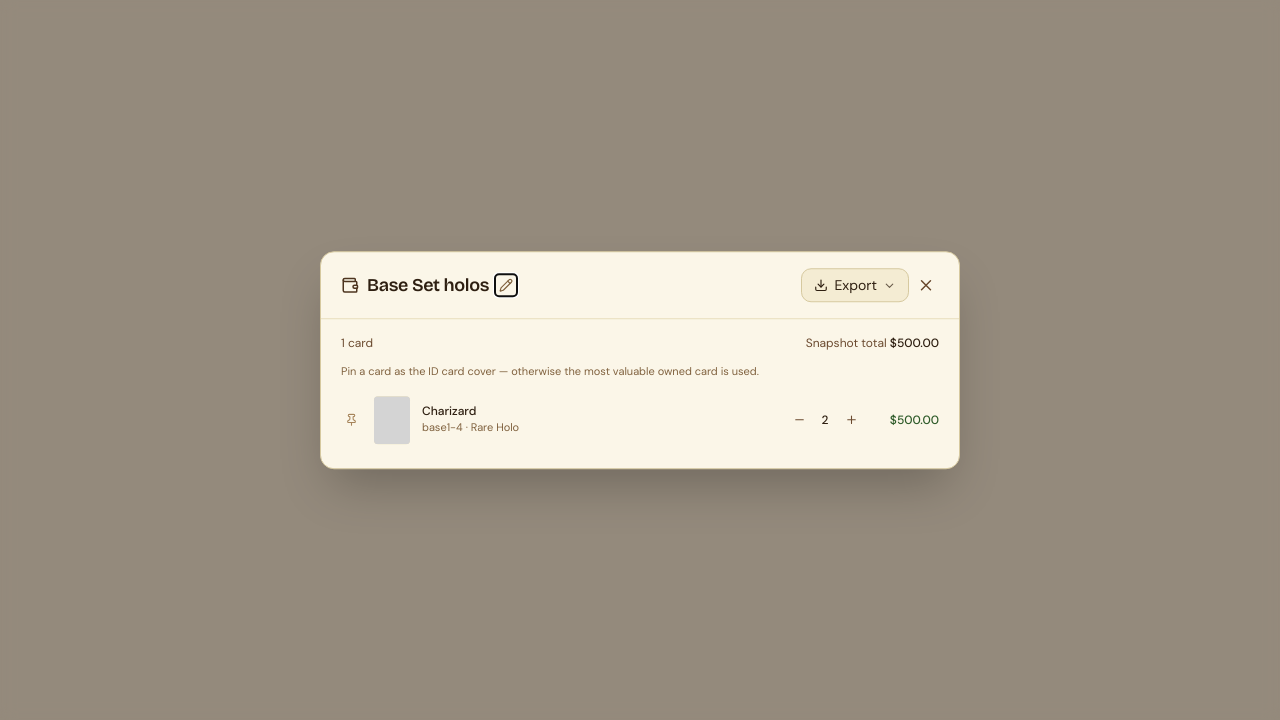
Scenario: CollectionDetail › reverts the pin on a failed PATCH
Expected: the text "Charizard" is shown, [422, 404, 476, 420]
What coordinates should you click on to do the following:
click the button named "pin charizard as id card cover"
I would click on:
 (352, 420)
Its box is [341, 409, 362, 430].
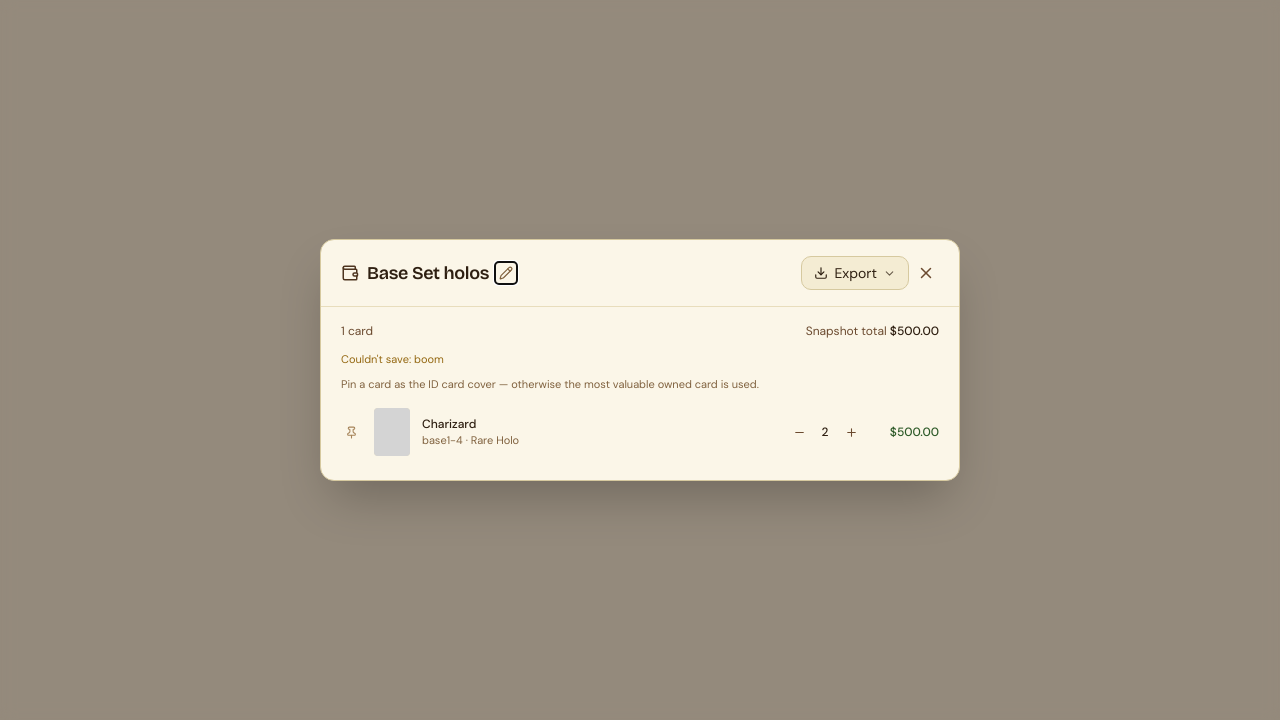
Result: the text "Couldn't save: boom" is shown at [341, 352, 444, 366]
